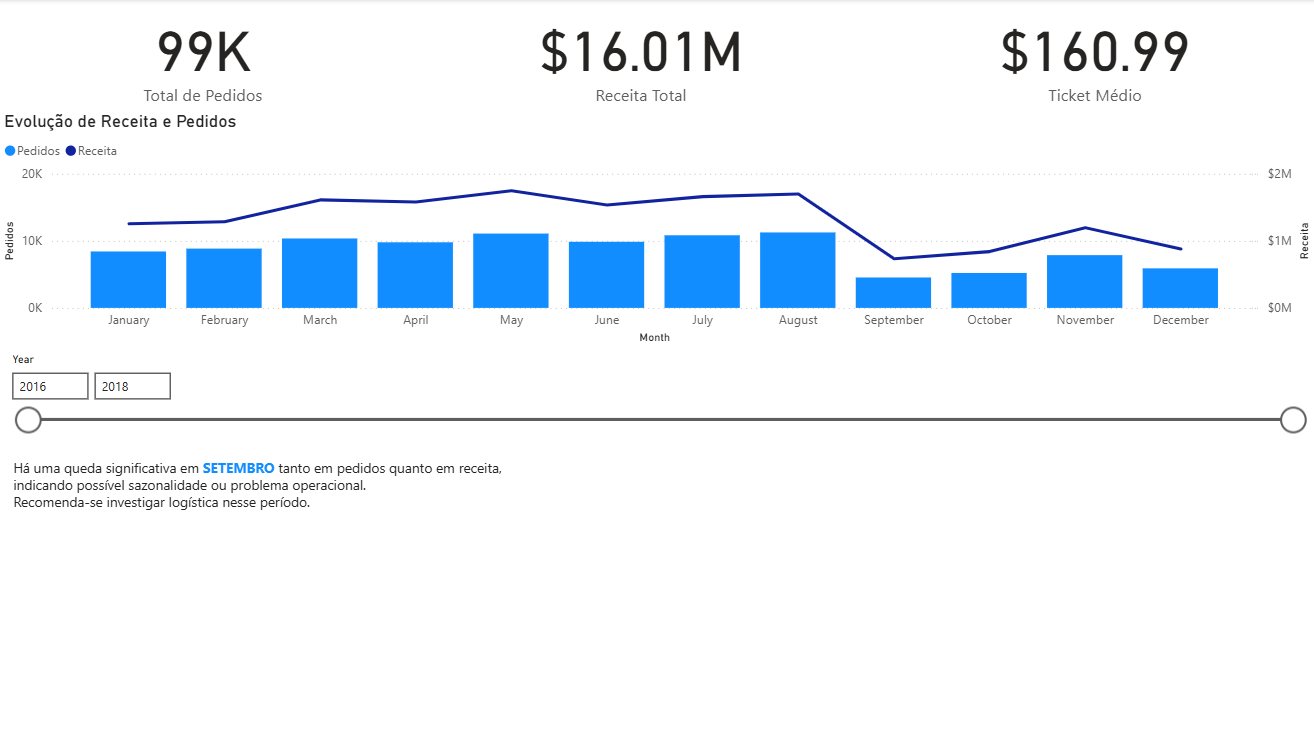

This screenshot's page, from the dashboard's own definition file:
{"tool":"powerbi","page":{"name":"Page 1","canvas":[1280,720],"ordinal":0},"visuals":[{"type":"card","fields":{"Values":["Sum(SQL_01_analise_geral.receita_total)"]},"box":[396.8,0,455.2,108.9],"z":0},{"type":"card","fields":{"Values":["Avg(SQL_01_analise_geral.ticket_medio)"]},"box":[852,0,428,108.9],"z":1000},{"type":"card","fields":{"Values":["Sum(SQL_01_analise_geral.total_pedidos)"]},"box":[0,0,396.8,108.9],"z":2000},{"type":"lineClusteredColumnComboChart","title":"Evolução de Receita e Pedidos","fields":{"Category":["SQL_02_evolucao_mensal.mes.Variation.Date Hierarchy.Month"],"Y":["Sum(SQL_02_evolucao_mensal.total_pedidos)"],"Y2":["Sum(SQL_02_evolucao_mensal.receita_mes)"]},"box":[0,108.9,1280,230.5],"z":3000},{"type":"slicer","fields":{"Values":["SQL_02_evolucao_mensal.mes.Variation.Date Hierarchy.Year"]},"box":[0,339.5,1280,93.4],"z":4000},{"type":"textbox","box":[8.8,441.6,528.1,71],"z":5000}]}

Visuals, with their boxes in screenshot pixels (x1, y1, x2, y2), scaled from the page's 1280x720 canvas onto the 1314x738 screenshot:
card - Sum(SQL_01_analise_geral.receita_total): {"x1": 407, "y1": 0, "x2": 875, "y2": 112}
card - Avg(SQL_01_analise_geral.ticket_medio): {"x1": 875, "y1": 0, "x2": 1313, "y2": 112}
card - Sum(SQL_01_analise_geral.total_pedidos): {"x1": 0, "y1": 0, "x2": 407, "y2": 112}
"Evolução de Receita e Pedidos" lineClusteredColumnComboChart: {"x1": 0, "y1": 112, "x2": 1313, "y2": 348}
slicer - SQL_02_evolucao_mensal.mes.Variation.Date Hierarchy.Year: {"x1": 0, "y1": 348, "x2": 1313, "y2": 444}
textbox: {"x1": 9, "y1": 453, "x2": 551, "y2": 525}
